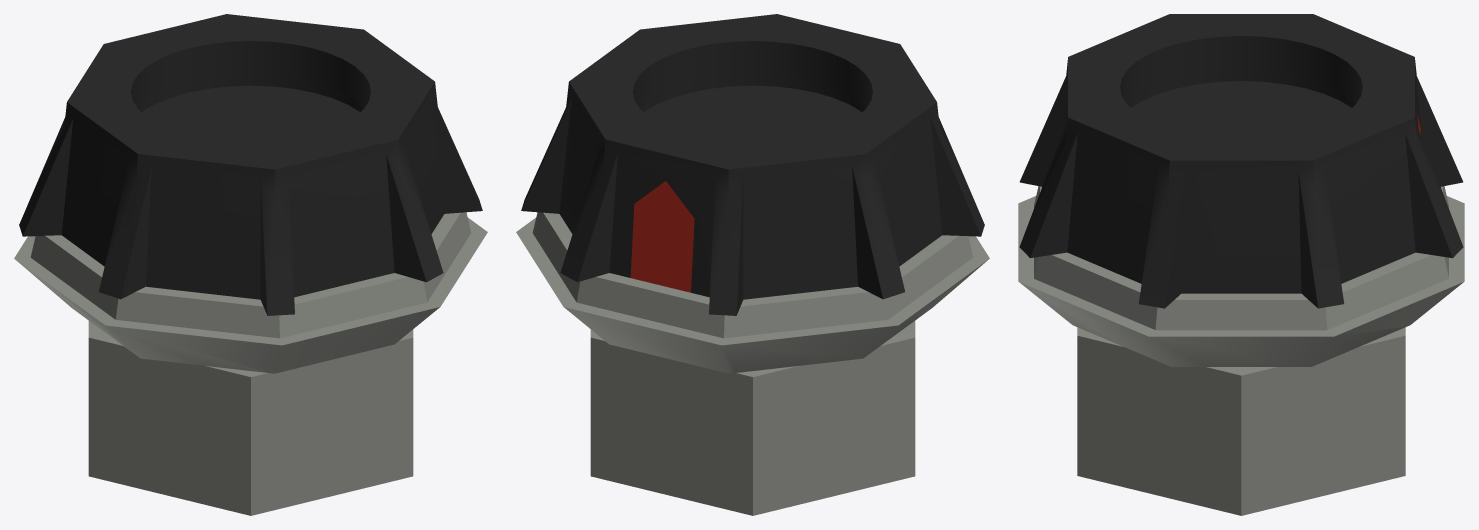
Rendered from turm_sockel.glb.
3 renders of one model, left to right at view 1: azimuth 30°, elevation 25°; view 2: azimuth 150°, elevation 25°; view 3: azimuth 270°, elevation 25°, orthographic.
Visible parts, largest first — view 1: turm_sockel; view 2: turm_sockel; view 3: turm_sockel.
Part boxes in pixels (x1=…): turm_sockel: x1=14, y1=14, x2=487, y2=515; turm_sockel: x1=516, y1=14, x2=989, y2=515; turm_sockel: x1=1018, y1=14, x2=1464, y2=515.
Size of the model in its own units: 19.03 by 16.4 by 19.03.
